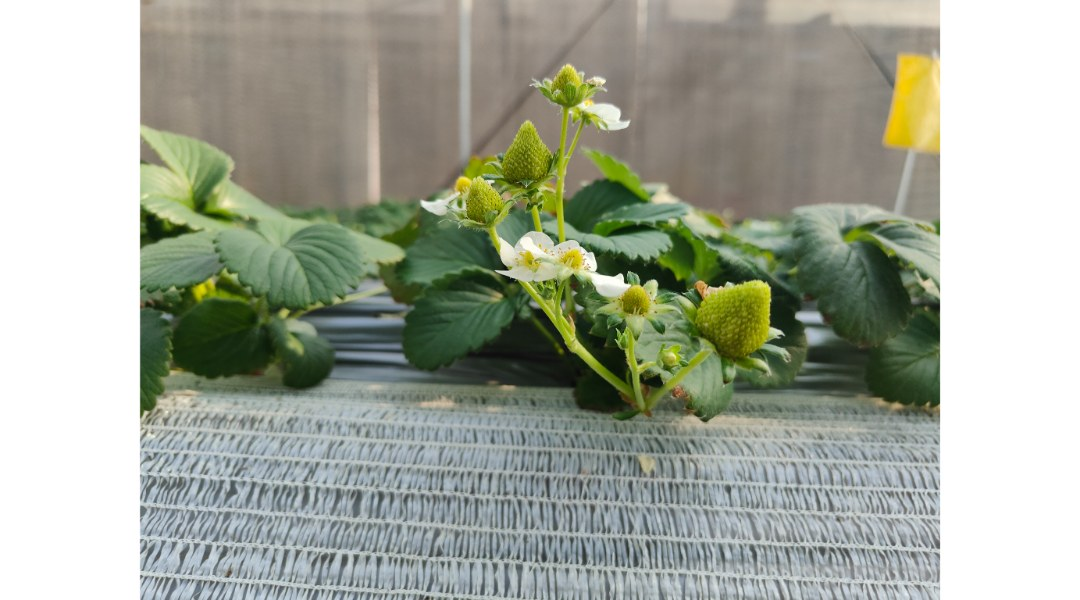berry: (674, 275, 800, 387), (478, 113, 556, 205), (530, 62, 606, 111), (440, 178, 506, 230), (656, 339, 688, 372)
flower: (477, 219, 591, 285), (571, 258, 663, 305), (567, 93, 647, 134)
strain: (515, 276, 632, 401), (655, 342, 713, 407)
